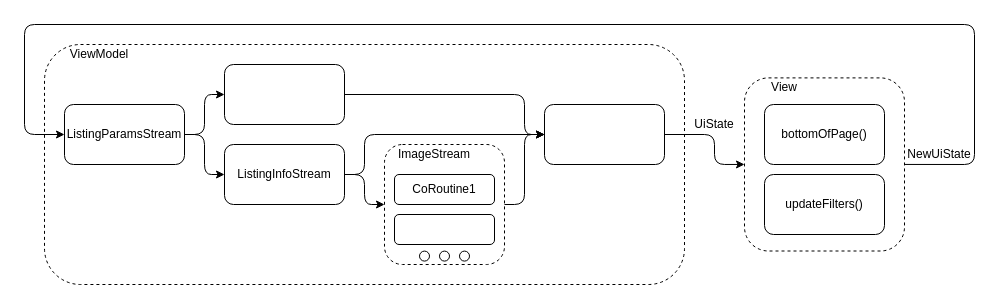
Some shapes in this 1000 by 302 pixel diagram are drawn without their labels. Each missing label, with the centre of its shape:
CoRoutine2: point 444,229
UiStateStream: point 604,134
UserStream: point 284,94
